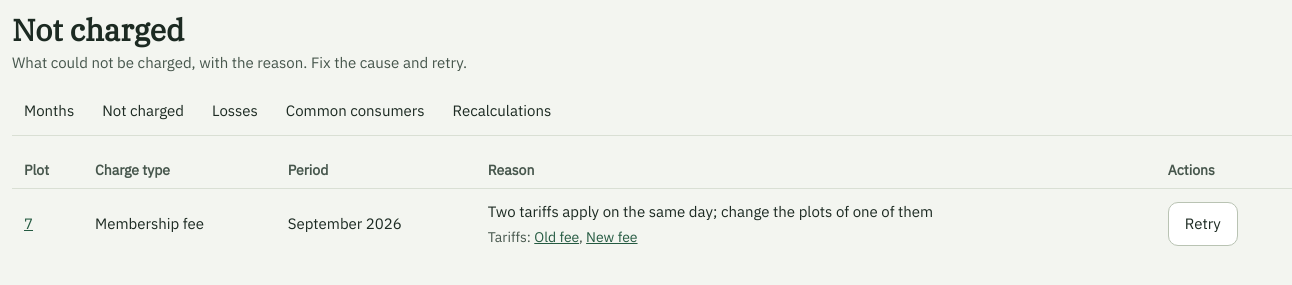
Test case: NotChargedPage › retries and reports an item that is still not charged
This screenshot has width=1292, height=285.
Click the button "Retry" at x=1203, y=224, box [1168,202,1238,246]
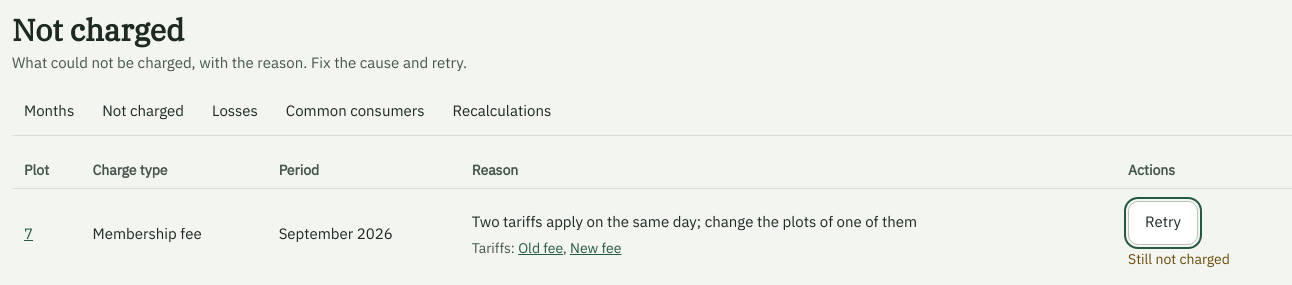
expect the text "Still not charged" is shown: met, box [1128,248,1230,268]
